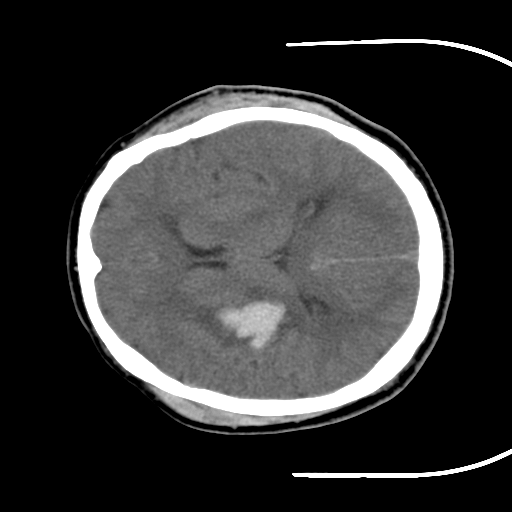a: (177, 278, 312, 361)
